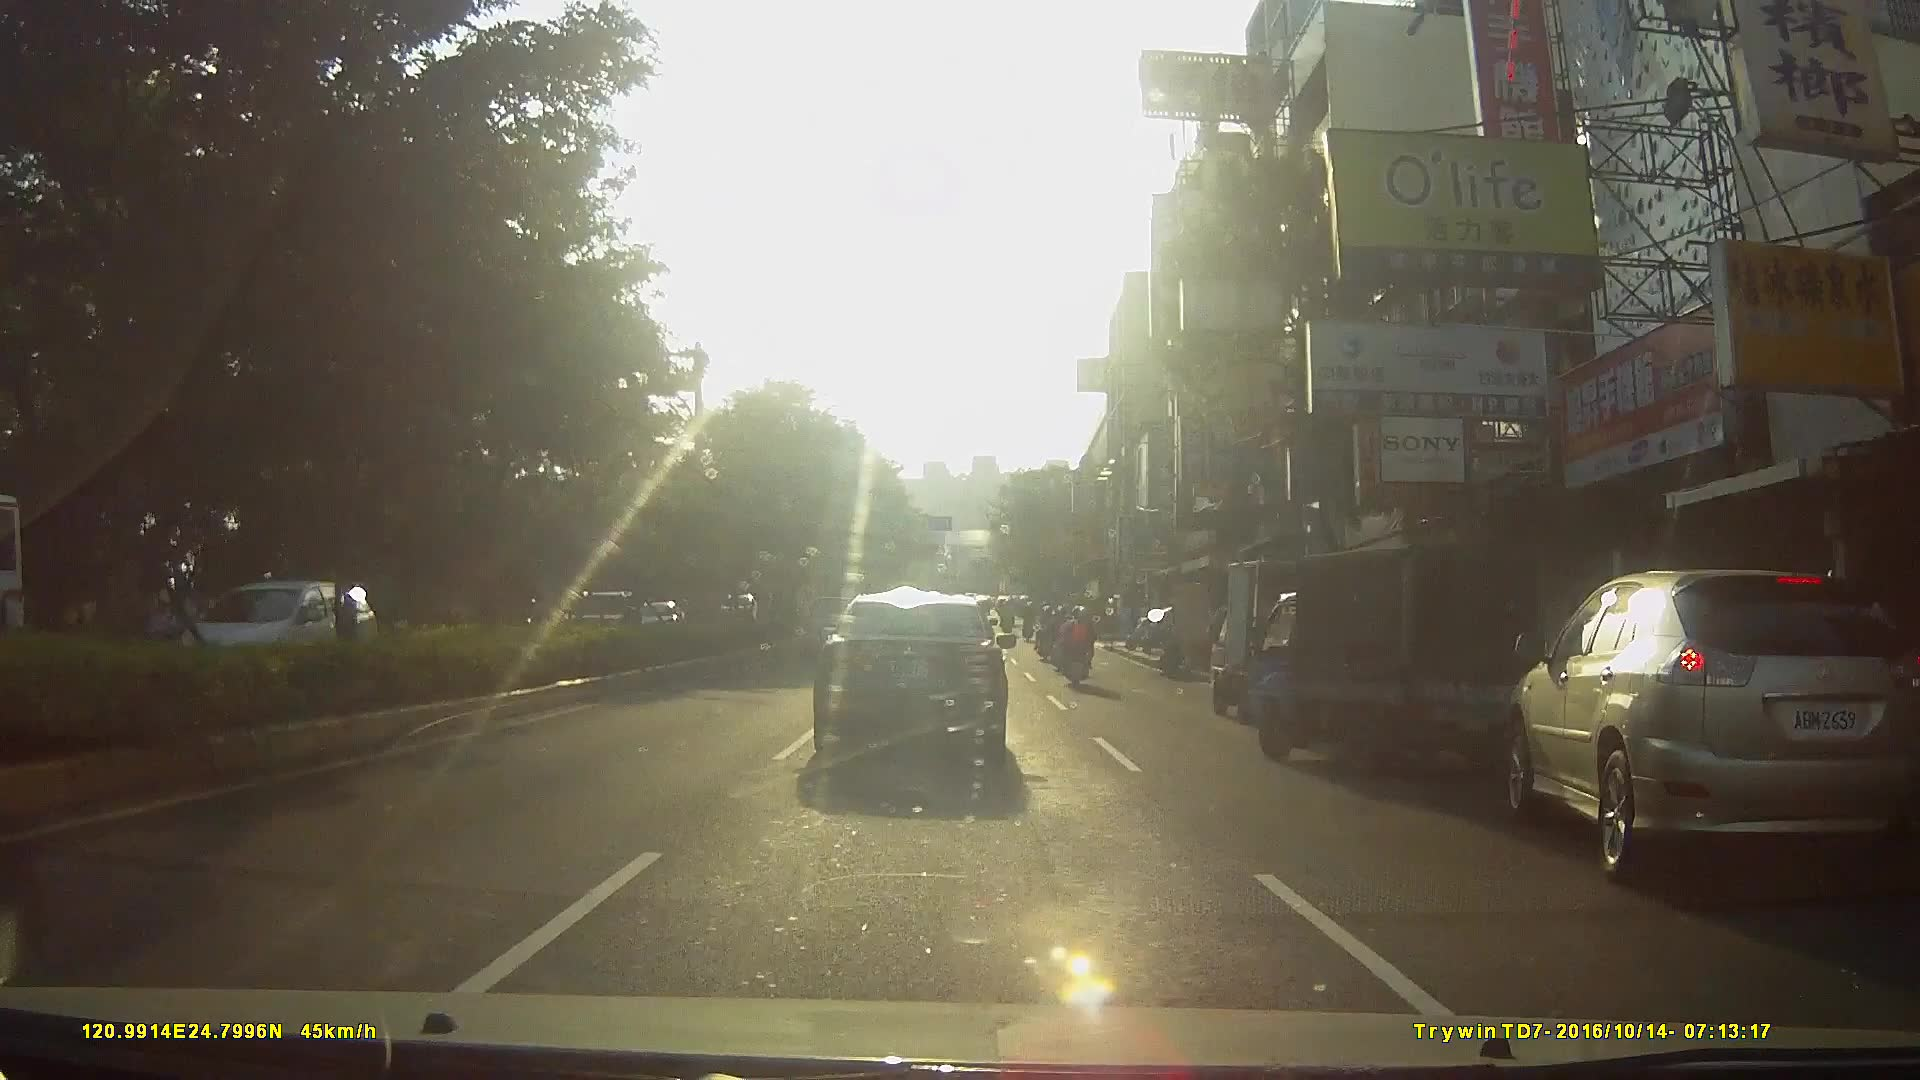rider: (1054, 607, 1097, 697), (1036, 607, 1058, 663)
vehicle: (1496, 557, 1920, 897), (1245, 535, 1580, 794), (811, 589, 1030, 780), (1196, 554, 1388, 725), (161, 576, 380, 686)
